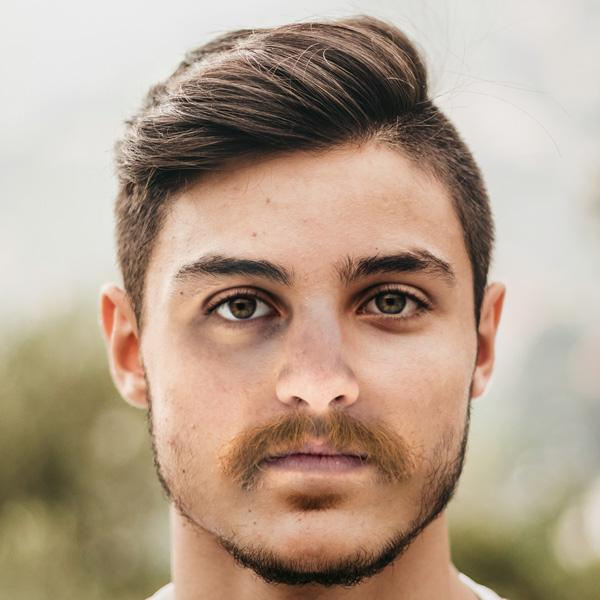Eyes: (188, 276, 295, 346), (343, 271, 445, 339)
